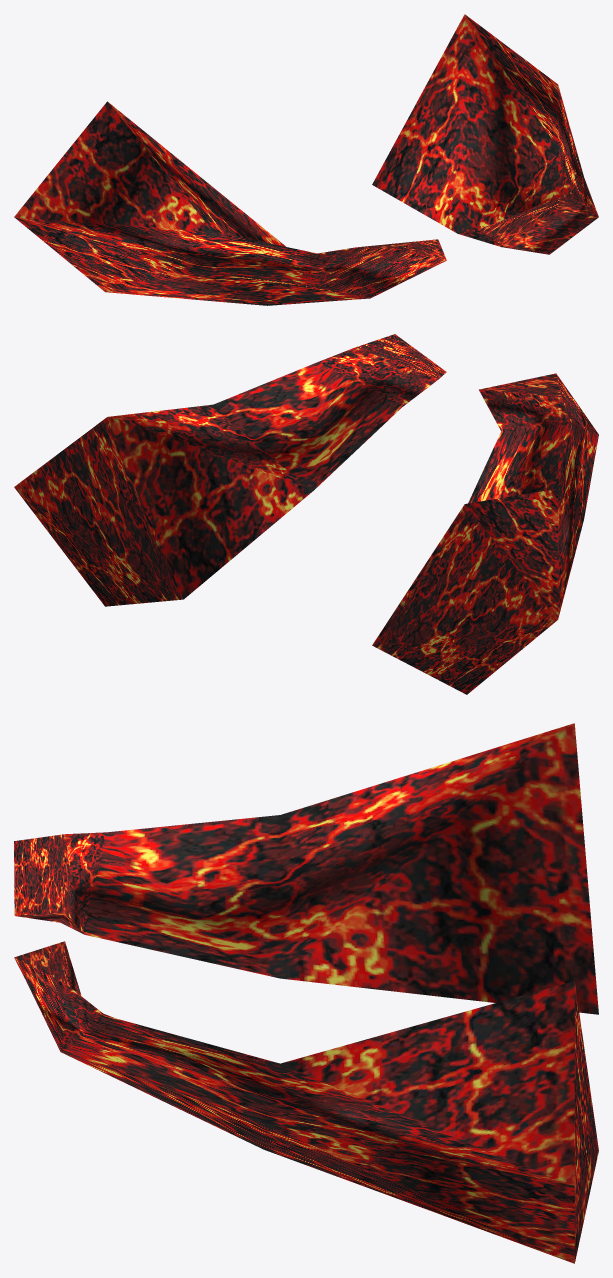
File: lava.obj
The picture shows the model from 3 angles, top to bottom: view 1: azimuth 30°, elevation 25°; view 2: azimuth 150°, elevation 25°; view 3: azimuth 270°, elevation 25°; orthographic projection. The views are drawn at different scales.
Visible parts, largest first — view 1: (null); view 2: (null); view 3: (null).
Boxes of the visible parts, box(x1,y1,x2,y2) form: (null): box(14, 14, 598, 305); (null): box(14, 334, 598, 694); (null): box(14, 723, 598, 1263).
Bounding box in the file's own units: 6.75 × 2.26 × 4.25.
